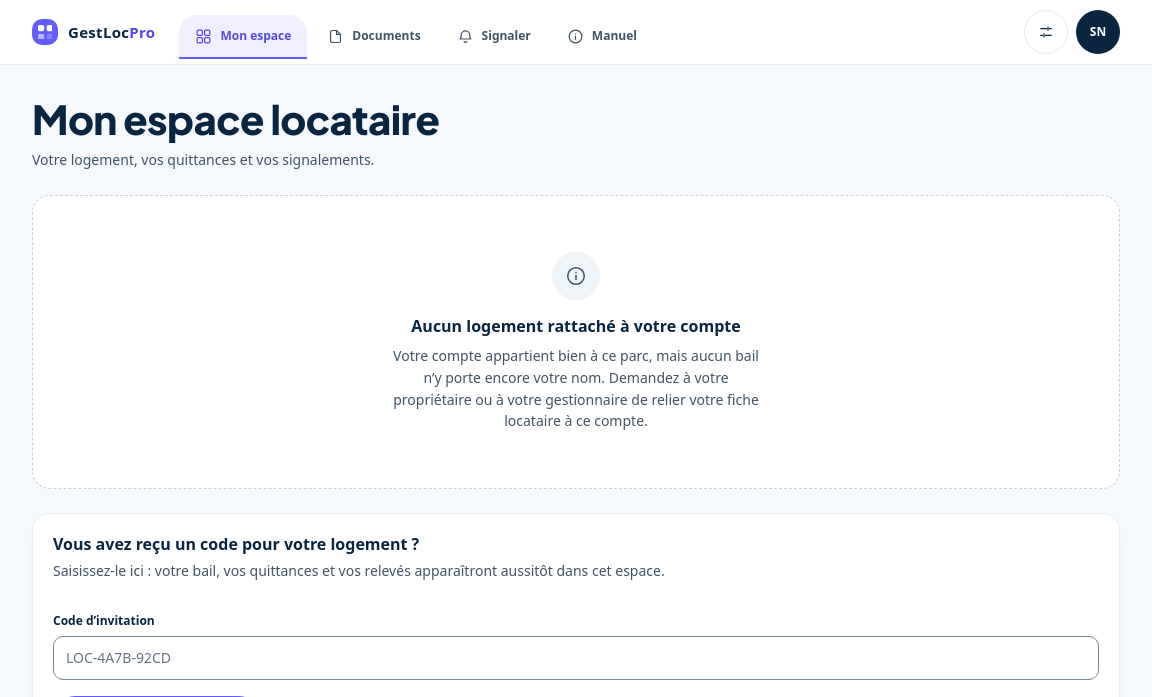
Scenario: locataire sans logement › dit que le logement est pris, et le geste qui débloque
Expected: the heading "Aucun logement rattaché à votre compte" is shown, [411, 316, 741, 337]
Type "LOC-M8CQ-Q55P" into the field labelled "Code d’invitation" at (576, 658), box [53, 636, 1099, 680]
(page scrolled)
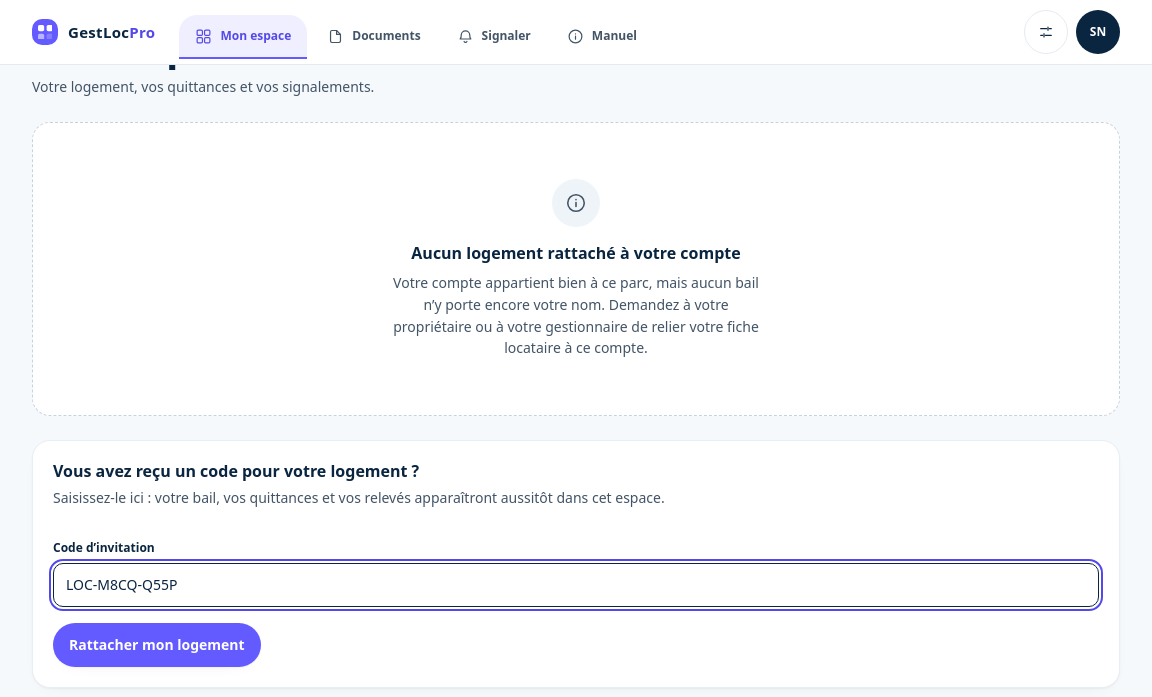
Click the button "Rattacher mon logement" at (157, 645), box [53, 623, 261, 667]
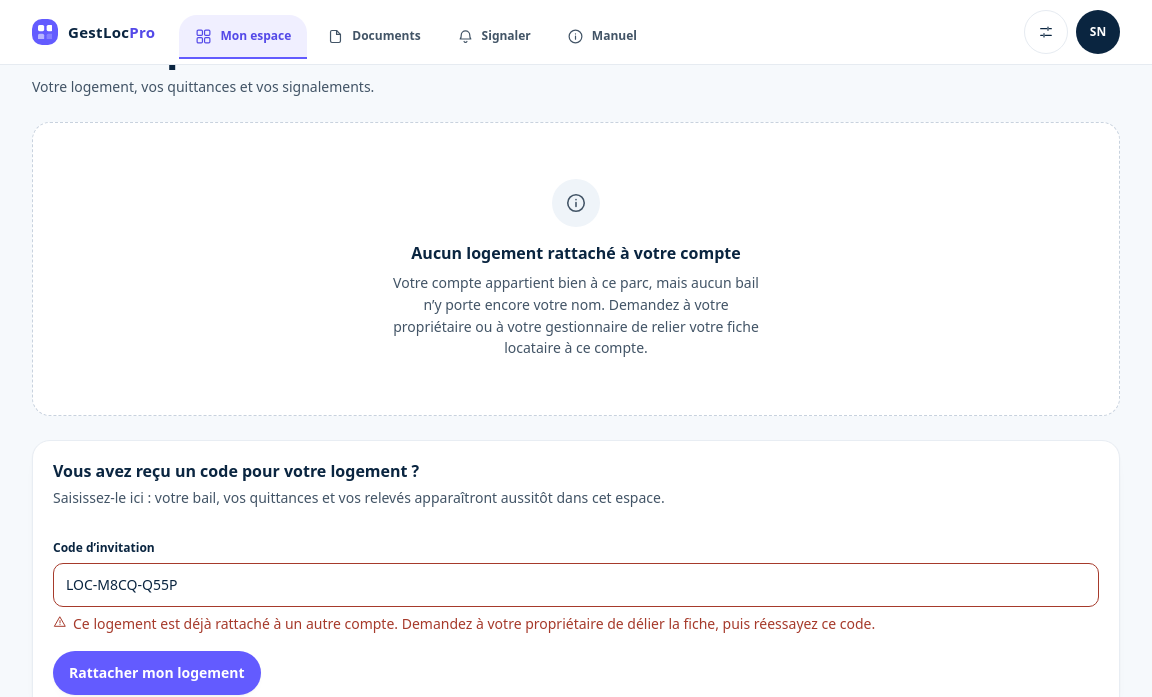
Expected: the text "délier la fiche" is shown, [73, 614, 875, 633]
